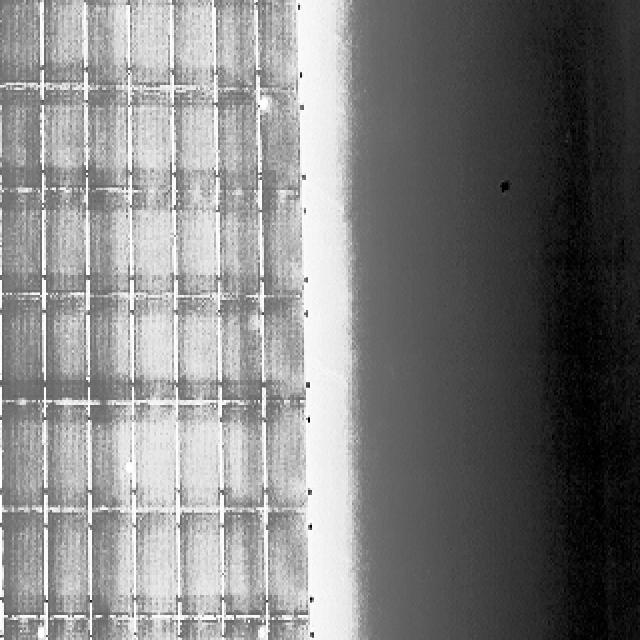Hotspots: (259, 90, 278, 110), (34, 622, 46, 640), (0, 515, 2, 533)
PV-modules: (3, 400, 49, 510), (3, 512, 50, 619), (264, 405, 310, 514), (120, 89, 168, 193), (2, 292, 48, 400), (2, 193, 48, 301), (255, 195, 301, 303), (220, 512, 266, 619), (124, 194, 170, 301), (222, 402, 267, 511), (125, 293, 170, 402), (215, 190, 261, 296), (46, 512, 92, 618), (221, 300, 266, 408), (84, 188, 129, 295), (86, 295, 130, 404), (88, 402, 132, 511), (266, 513, 310, 622), (91, 512, 136, 618), (179, 513, 224, 619), (44, 402, 88, 510), (43, 187, 87, 295), (44, 298, 88, 405), (174, 190, 218, 297), (178, 407, 222, 514), (132, 404, 177, 508), (263, 297, 307, 403), (176, 297, 220, 403), (42, 89, 87, 192), (173, 91, 217, 196), (214, 90, 258, 194), (85, 89, 129, 193), (132, 513, 176, 617), (259, 91, 303, 194), (256, 1, 300, 95), (213, 1, 257, 94), (0, 88, 40, 190), (82, 2, 128, 90), (171, 1, 215, 92), (127, 1, 171, 90), (0, 0, 46, 85), (43, 2, 88, 88), (46, 615, 92, 640), (0, 0, 12, 85), (134, 617, 178, 640), (88, 617, 132, 640), (218, 620, 264, 640), (2, 620, 48, 640), (268, 620, 312, 640), (180, 620, 224, 640)
